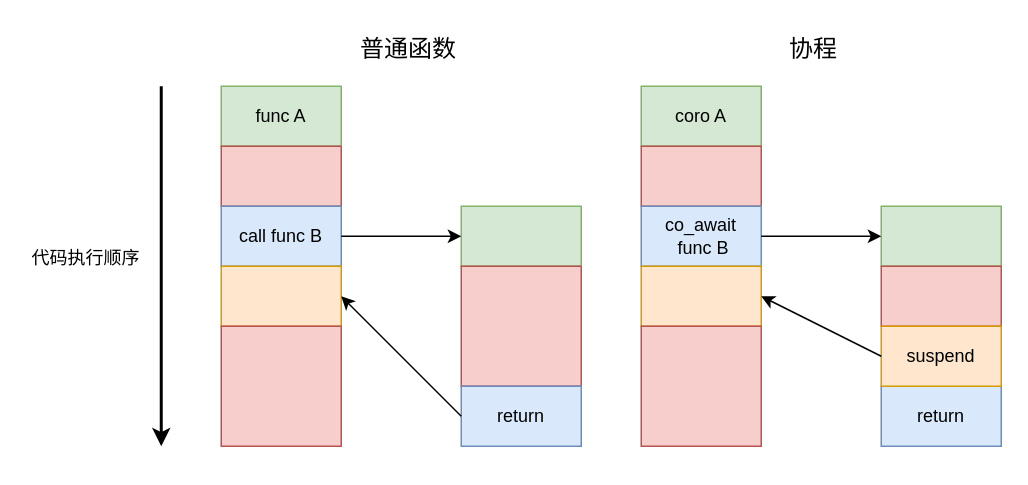
This 1028x485 diagram has some shape labels left out. The centre of each missing label's shape, as x and y in pixels:
"coro B" belongs at point (940, 235).
"func B" belongs at point (520, 235).
